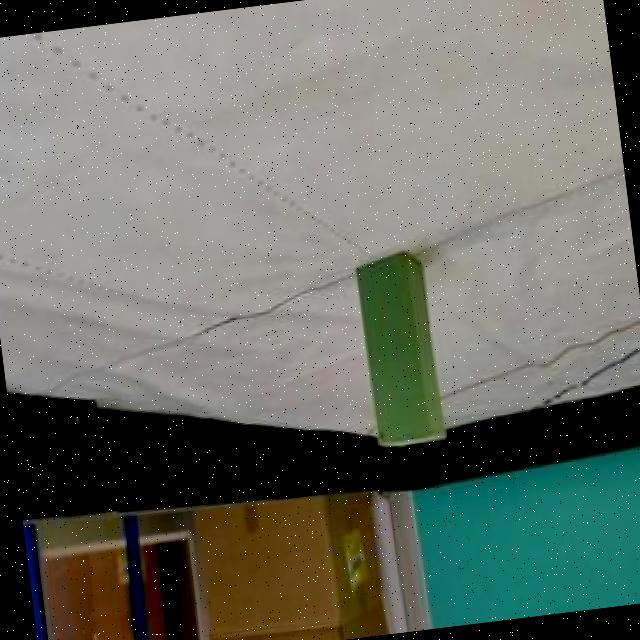greenbox: (352, 248, 448, 452)
